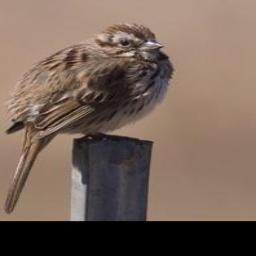Sparrow: (1, 22, 176, 216)
